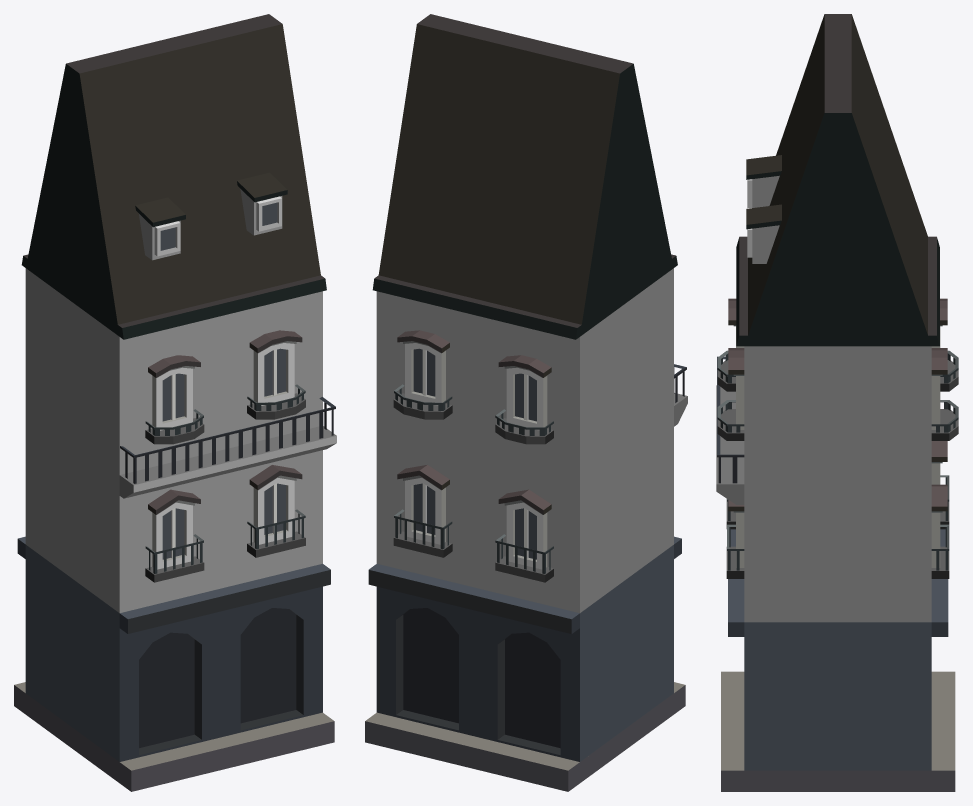
Rendered from TB_CITY_BD_T_Line_3_D.FBX.
The picture shows the model from 3 angles, left to right: view 1: azimuth 30°, elevation 25°; view 2: azimuth 150°, elevation 25°; view 3: azimuth 270°, elevation 25°; orthographic projection.
Parts seen in each view (by area): view 1: TB_CITY_BD_T_Line_3_D; view 2: TB_CITY_BD_T_Line_3_D; view 3: TB_CITY_BD_T_Line_3_D.
Part boxes in pixels (x1,y1,x2,y2): TB_CITY_BD_T_Line_3_D: [14, 14, 336, 791]; TB_CITY_BD_T_Line_3_D: [365, 14, 687, 791]; TB_CITY_BD_T_Line_3_D: [716, 14, 958, 791].
Bounding box in the file's own units: 7.99 × 25.57 × 8.27.
